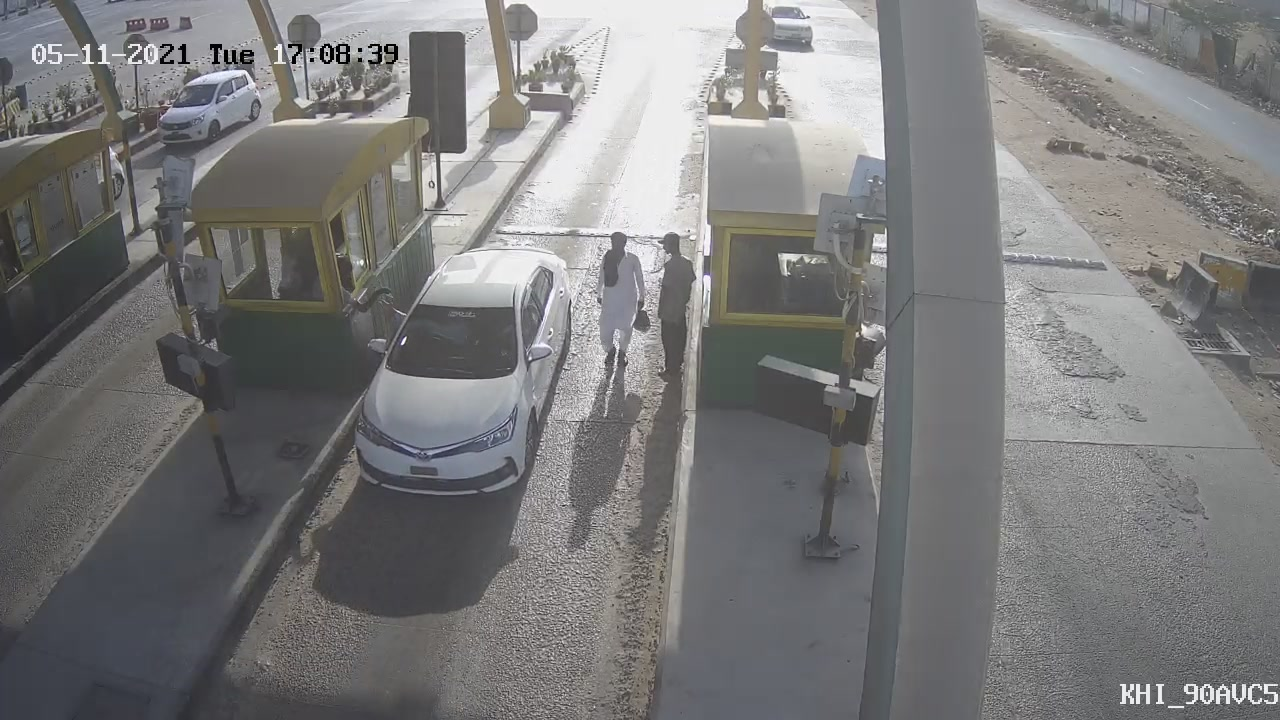F1: (333, 225, 598, 518)
